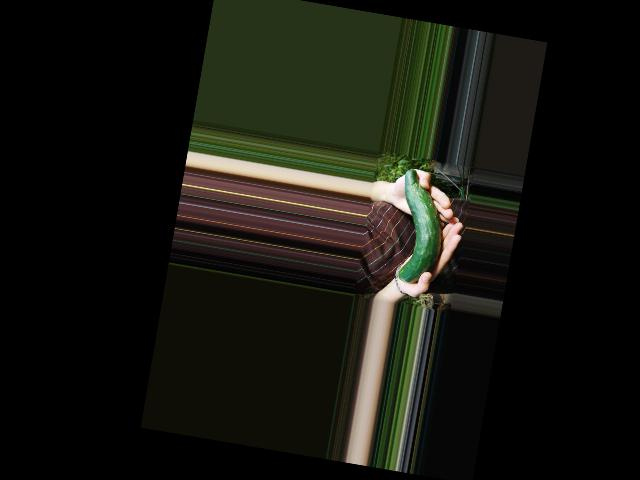cucumber: (387, 168, 452, 288)
